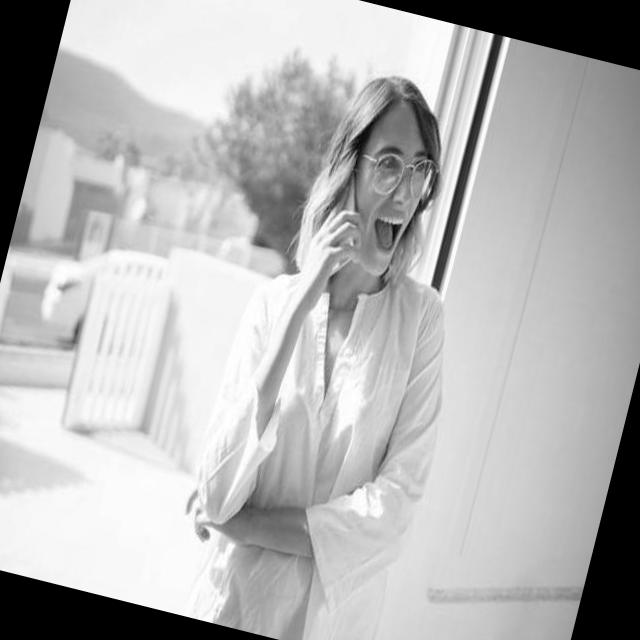Surprised: (330, 94, 442, 284)
